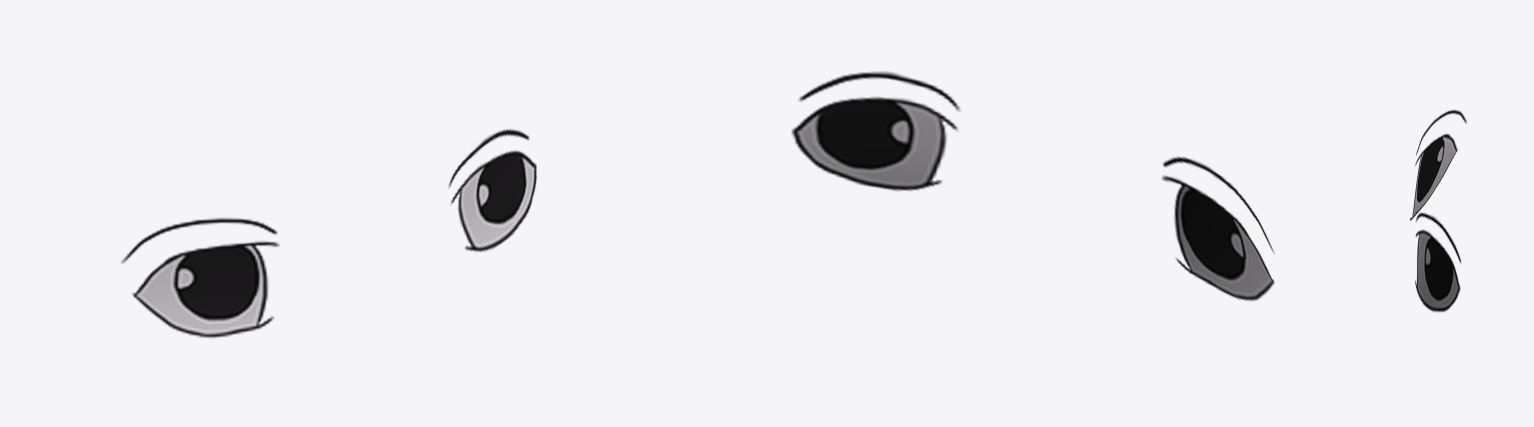
Rendered from Sad.gltf.
The picture shows the model from 3 angles, left to right: view 1: azimuth 30°, elevation 25°; view 2: azimuth 150°, elevation 25°; view 3: azimuth 270°, elevation 25°; orthographic projection. The views are drawn at different scales.
Parts seen in each view (by area): view 1: 对称.2; view 2: 对称.2; view 3: 对称.2.
Part boxes in pixels (box(x1,y1,x2,y2)): 对称.2: box(121, 129, 536, 337); 对称.2: box(791, 71, 1274, 300); 对称.2: box(1410, 110, 1466, 312).
Size of the model in its own units: 6.44 by 2.52 by 1.45.
1 material, 1 textured.
